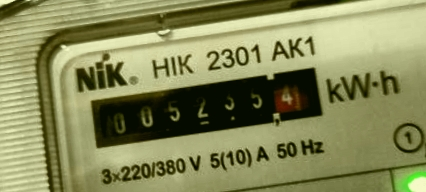0: (110, 108, 128, 135), (137, 103, 155, 128)
2: (191, 92, 211, 119)
3: (218, 85, 238, 112)
4: (275, 78, 297, 109)
5: (245, 81, 265, 111), (165, 96, 182, 123)
screen: (76, 55, 333, 157)
